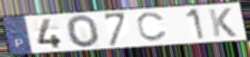1: (185, 8, 206, 41)
4: (35, 17, 63, 50)
7: (103, 12, 129, 48)
C: (135, 11, 169, 43)
K: (207, 7, 239, 38)
O: (65, 14, 102, 49)
